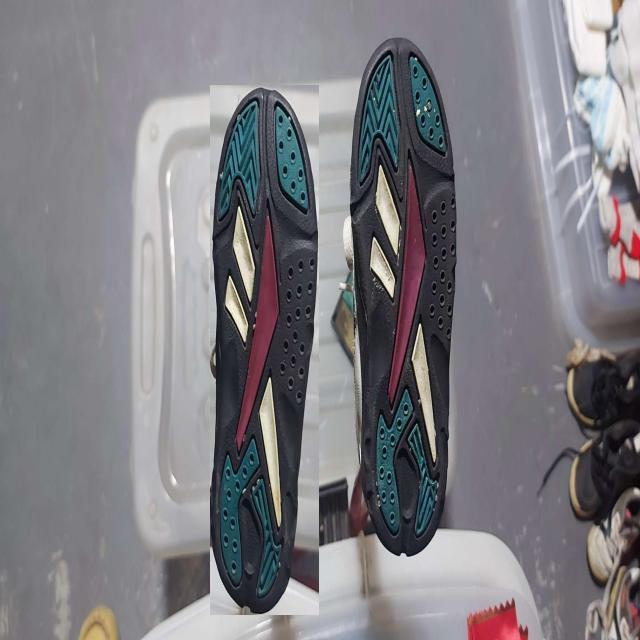shoe: (210, 85, 319, 615), (349, 36, 458, 559)
